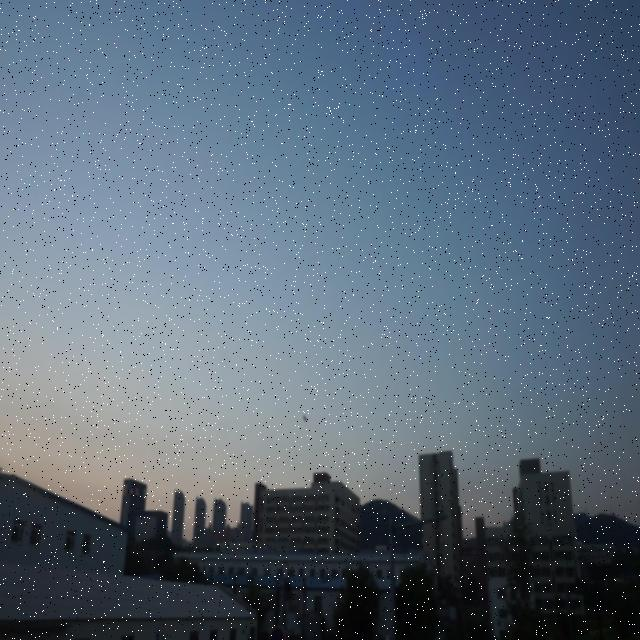UAV: (302, 414, 308, 423)
